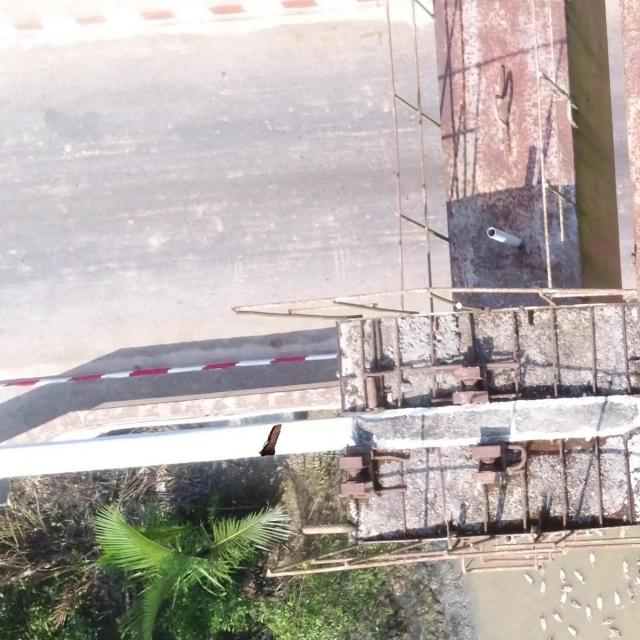corrosion: (259, 423, 282, 456)
